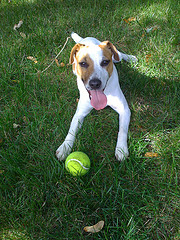tennis ball: (64, 151, 91, 176)
